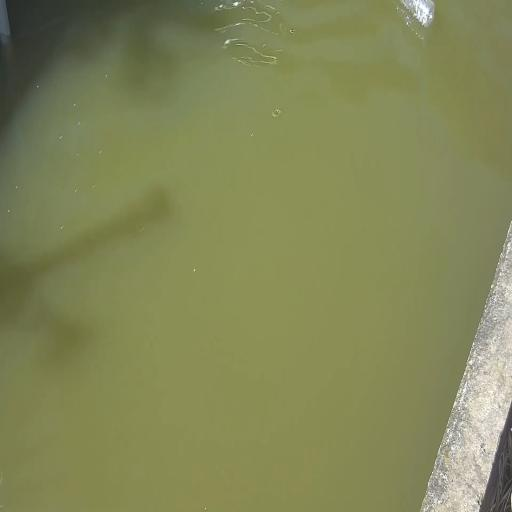plastic: (398, 0, 436, 31)
